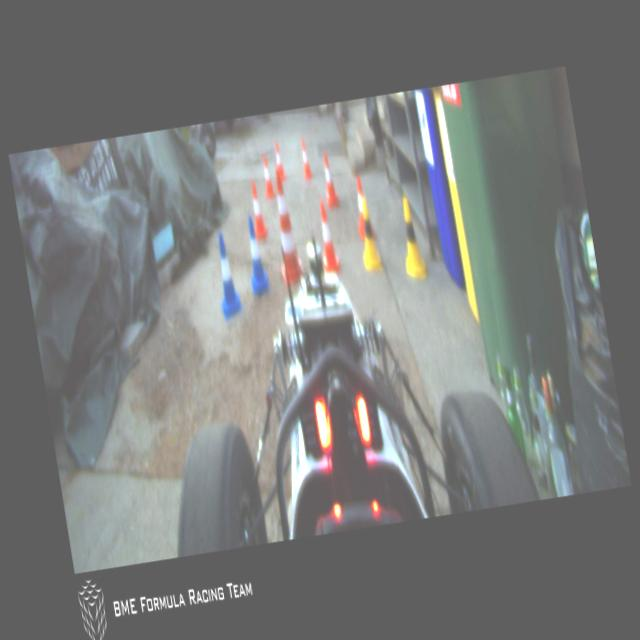blue_cone: (212, 232, 244, 320), (242, 215, 270, 293)
large_orange_cone: (266, 168, 304, 286)
orange_cone: (314, 200, 341, 276), (350, 175, 376, 241), (248, 181, 268, 239), (320, 154, 339, 208), (260, 154, 276, 198), (298, 140, 312, 179), (274, 143, 286, 181)
yellow_cone: (396, 196, 428, 281), (354, 198, 382, 272)
